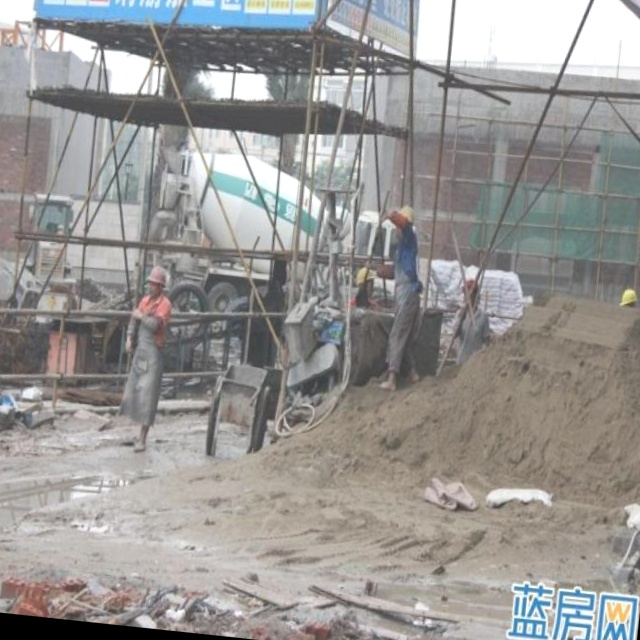Con_Casco: (145, 266, 169, 300)
